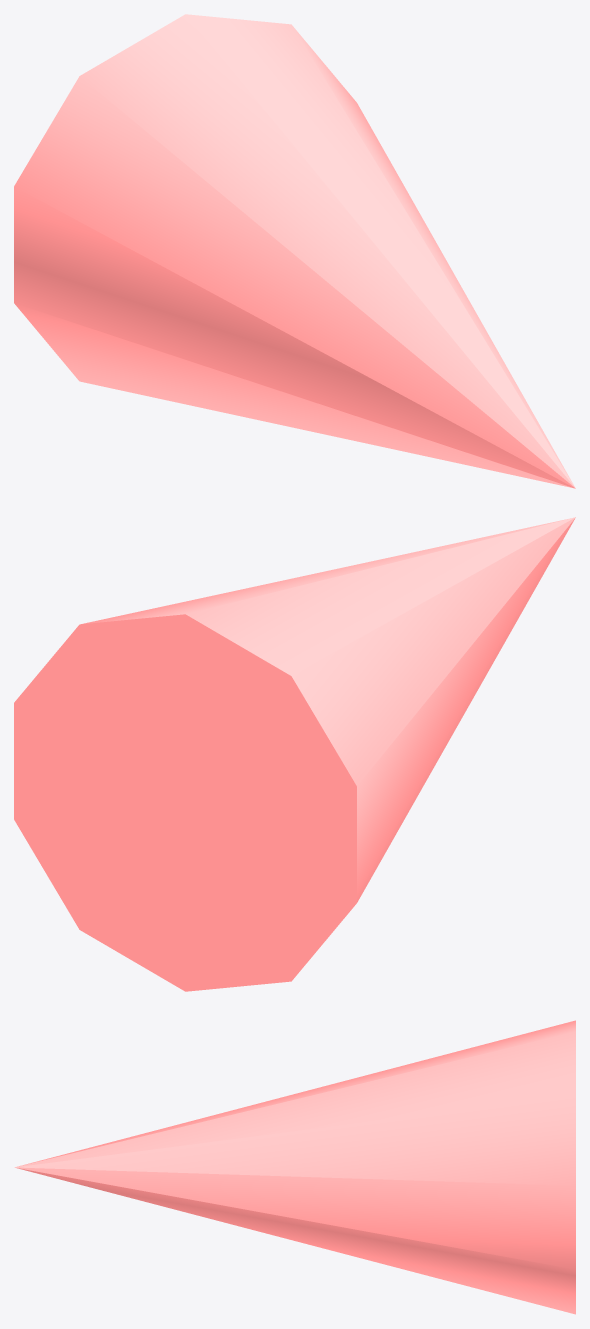
Rendered from rockets.glb.
3 views of the same model, one above another, from view 1: azimuth 30°, elevation 25°; view 2: azimuth 150°, elevation 25°; view 3: azimuth 270°, elevation 25° (orthographic). The views are drawn at different scales.
Visible parts, largest first — view 1: rockets; view 2: rockets; view 3: rockets.
Boxes of the visible parts, x1=… form: rockets: x1=14, y1=14, x2=575, y2=488; rockets: x1=14, y1=517, x2=575, y2=991; rockets: x1=14, y1=1020, x2=575, y2=1314.
Bounding box in the file's own units: 0.6087 × 0.64 × 1.2.
